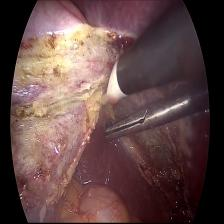Grasper: (97, 92, 187, 156)
Hook: (95, 56, 128, 115)
